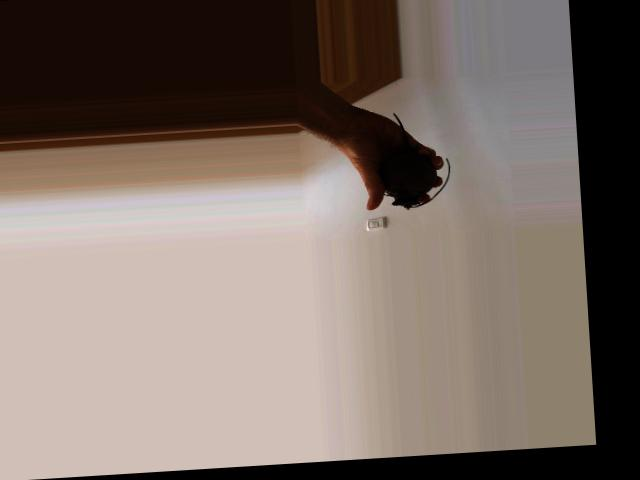beet: (378, 109, 453, 210)
